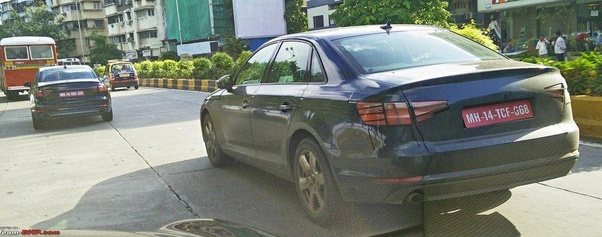number_plate: (459, 101, 538, 131)
